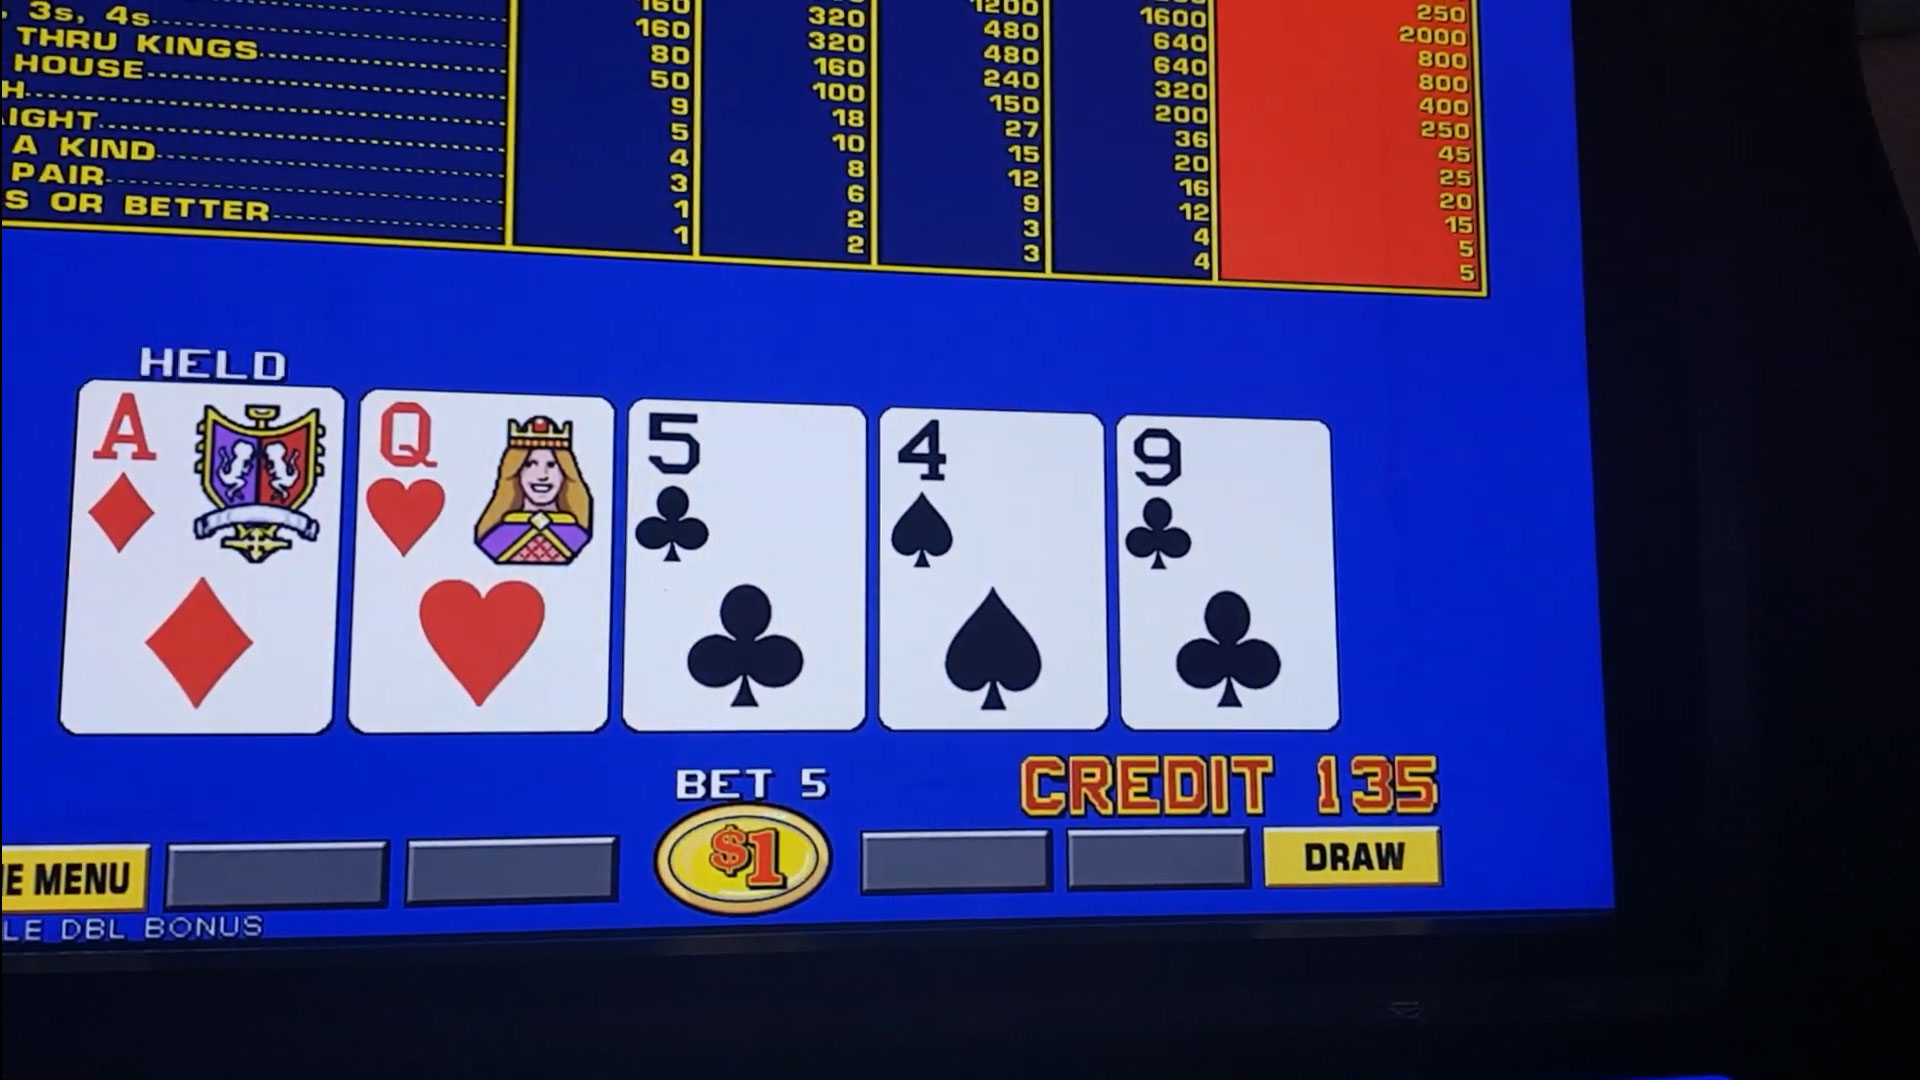C5: (633, 411, 856, 580)
C9: (1122, 423, 1325, 585)
DA: (80, 385, 335, 564)
HQ: (359, 401, 609, 578)
S4: (886, 421, 1102, 578)
